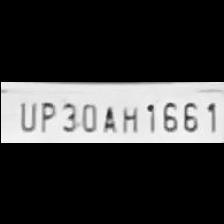0: (78, 98, 98, 132)
1: (202, 98, 220, 132), (140, 100, 158, 132)
3: (57, 97, 77, 131)
6: (178, 97, 200, 131), (157, 97, 177, 131)
A: (98, 100, 118, 132)
H: (116, 101, 140, 133)
P: (36, 97, 56, 131)
U: (12, 96, 36, 132)
